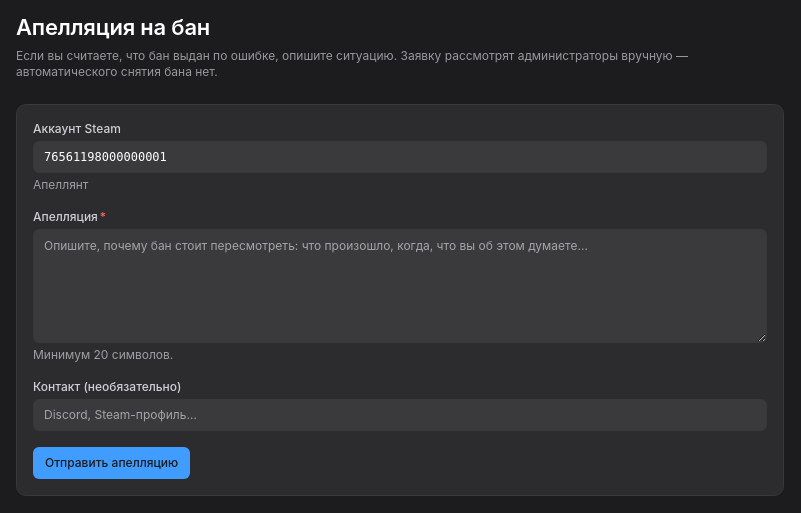
PublicAppealPage › submits for the signed-in account with the optional contact and shows the tracking link
Expected: the field showing "76561198000000001" is shown, [33,141,767,173]
Replace the text in the text box with placeholder "Опишите, почему" with "Меня забанили по ошибке, прошу пересмотреть решение." at (400, 286), box [33,229,767,343]
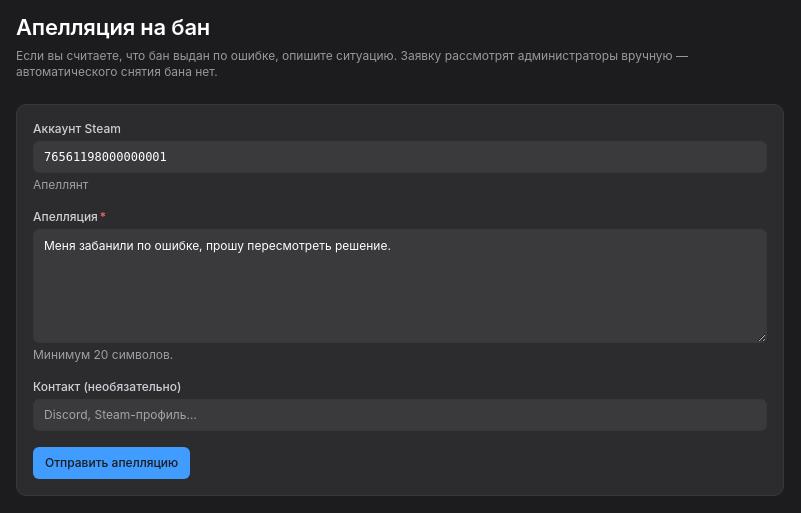
Type "discord: me#1" into the field with placeholder "Discord, Steam-профиль…".
click(400, 415); type("discord: me#1")  # box [33,399,767,431]
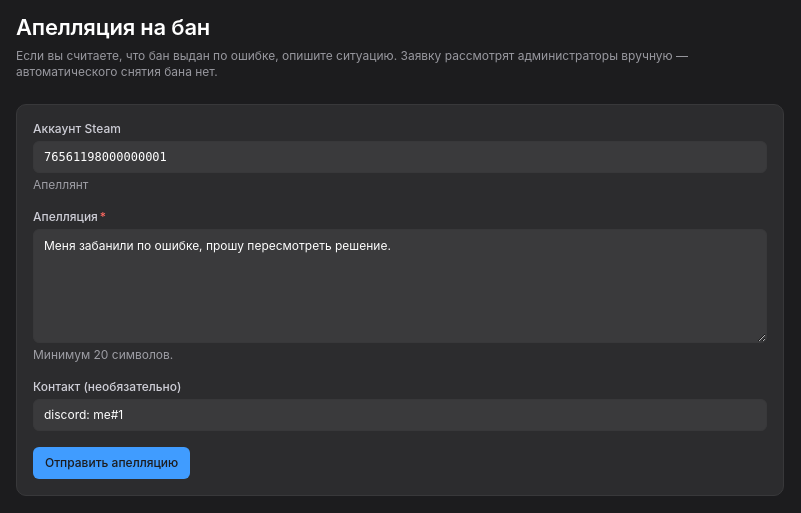
Click the button "Отправить апелляцию".
click(112, 463)  # box [33,447,190,479]
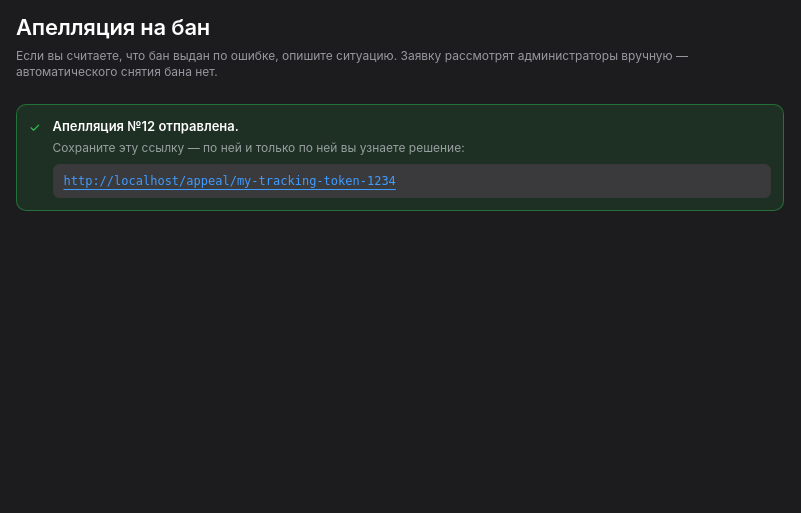
Expected: the link "http://localhost/appeal/my-tracking-token-1234" is shown, [64,174,396,188]
Expected: the text "Сохраните эту ссылку" is shown, [52,140,465,155]
